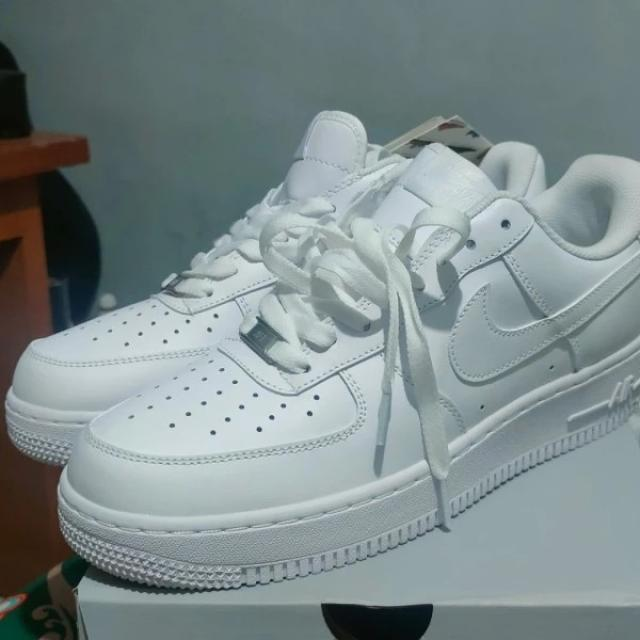nike original air force: (56, 143, 640, 593), (1, 110, 488, 464)
